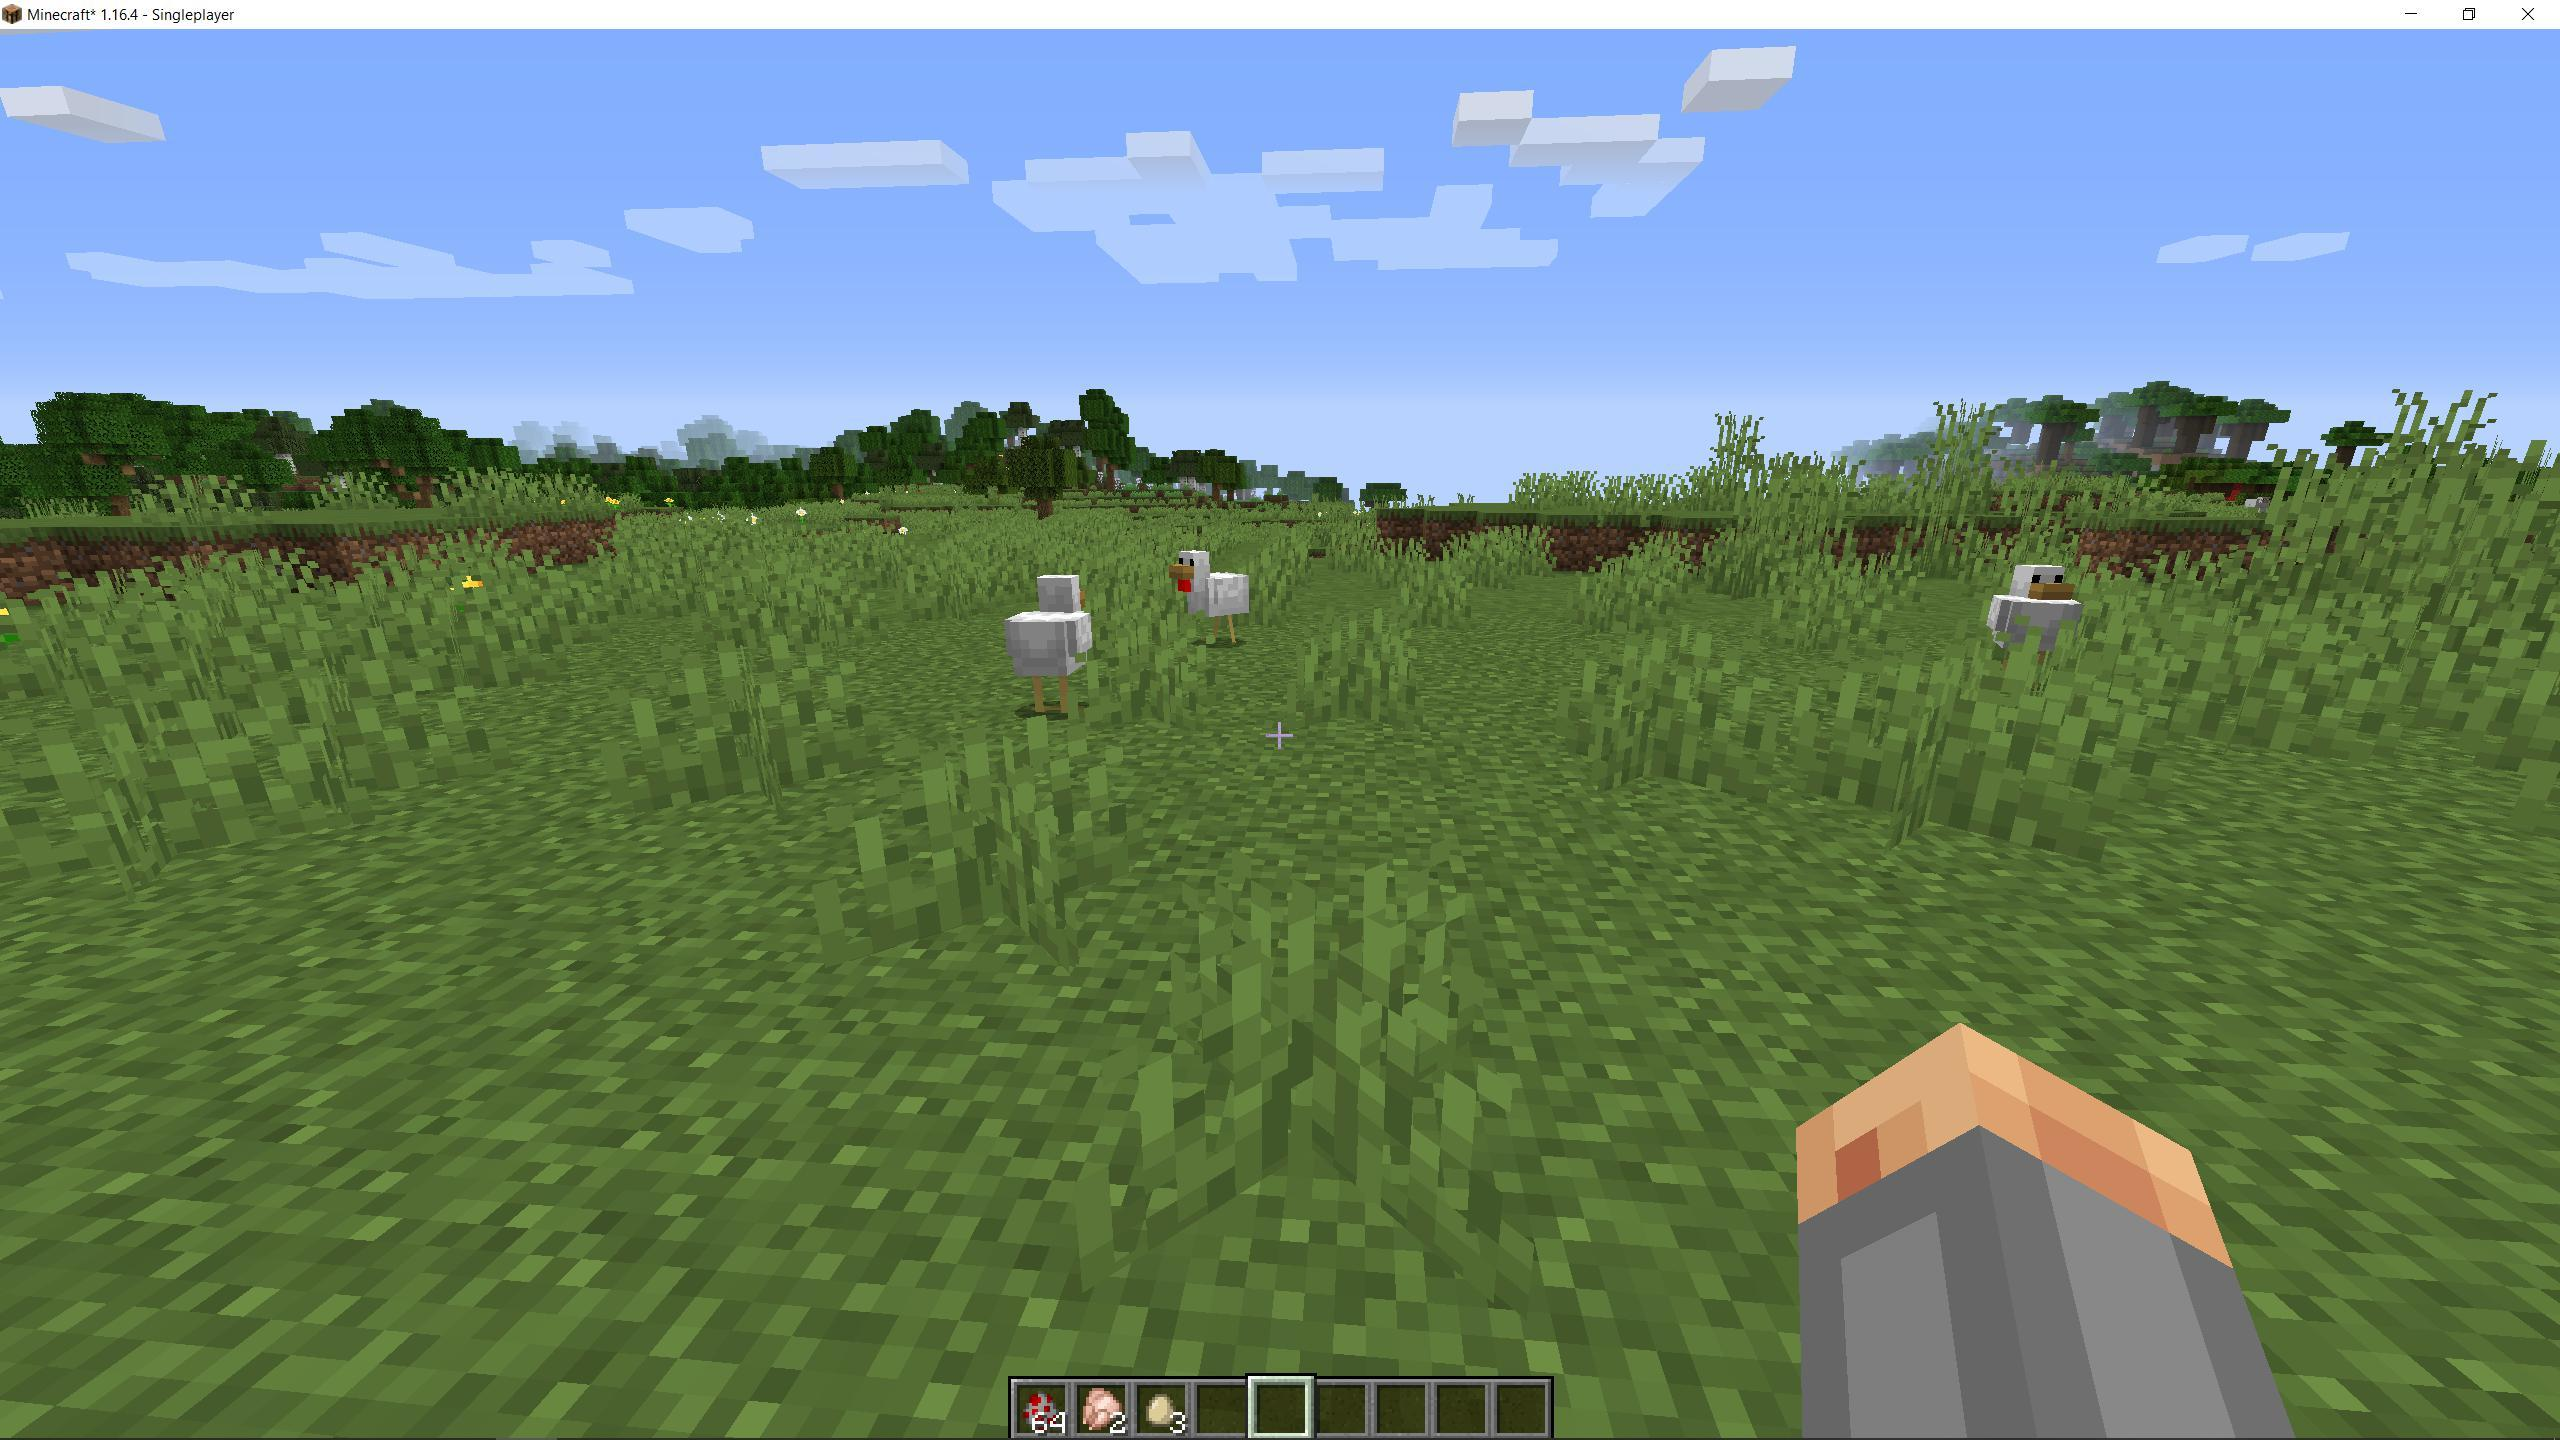chicken: (1978, 552, 2091, 693), (1013, 566, 1104, 721), (1166, 540, 1255, 649)
